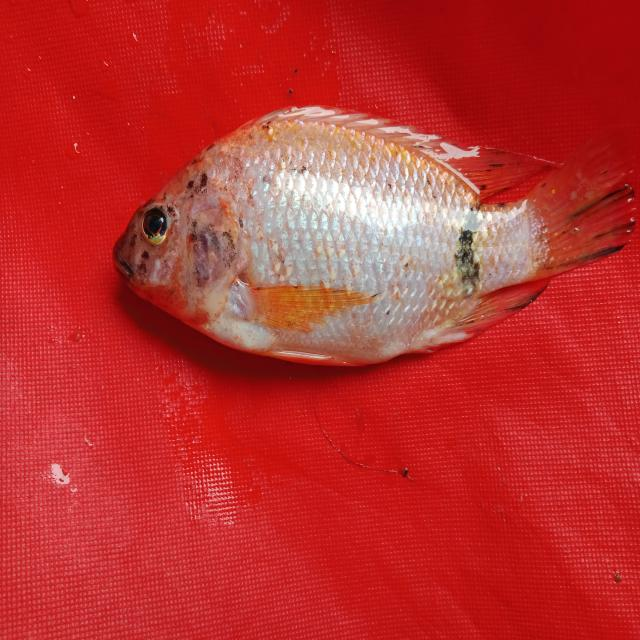ikan: (103, 81, 610, 382)
